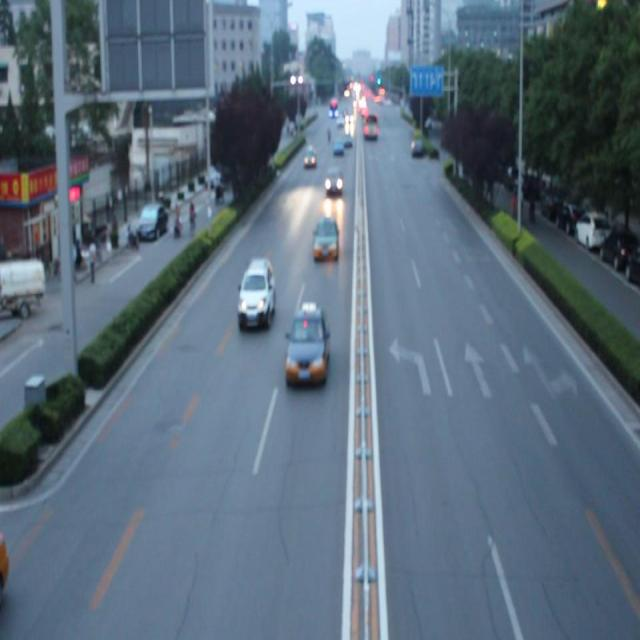car: (283, 304, 328, 387), (237, 257, 274, 325), (311, 215, 339, 263), (325, 164, 343, 197)
